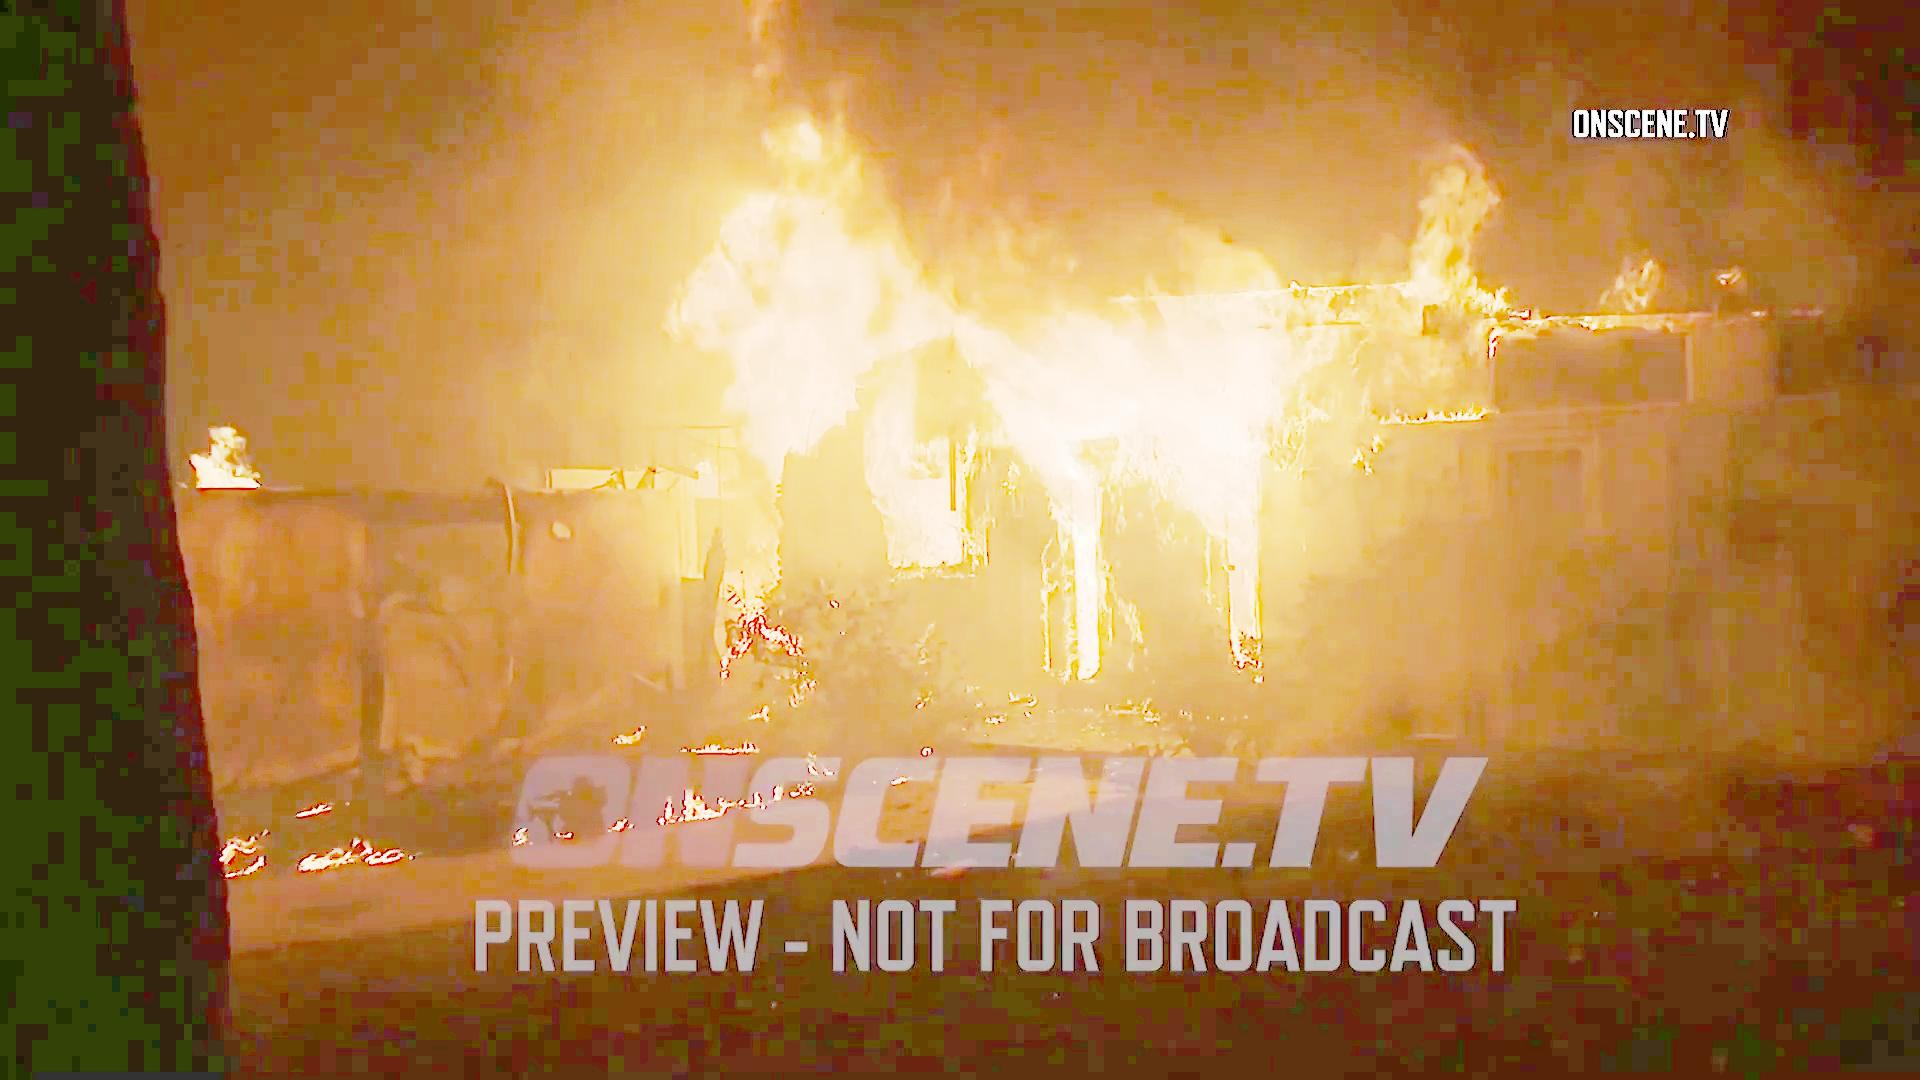fire: (622, 38, 1276, 505)
